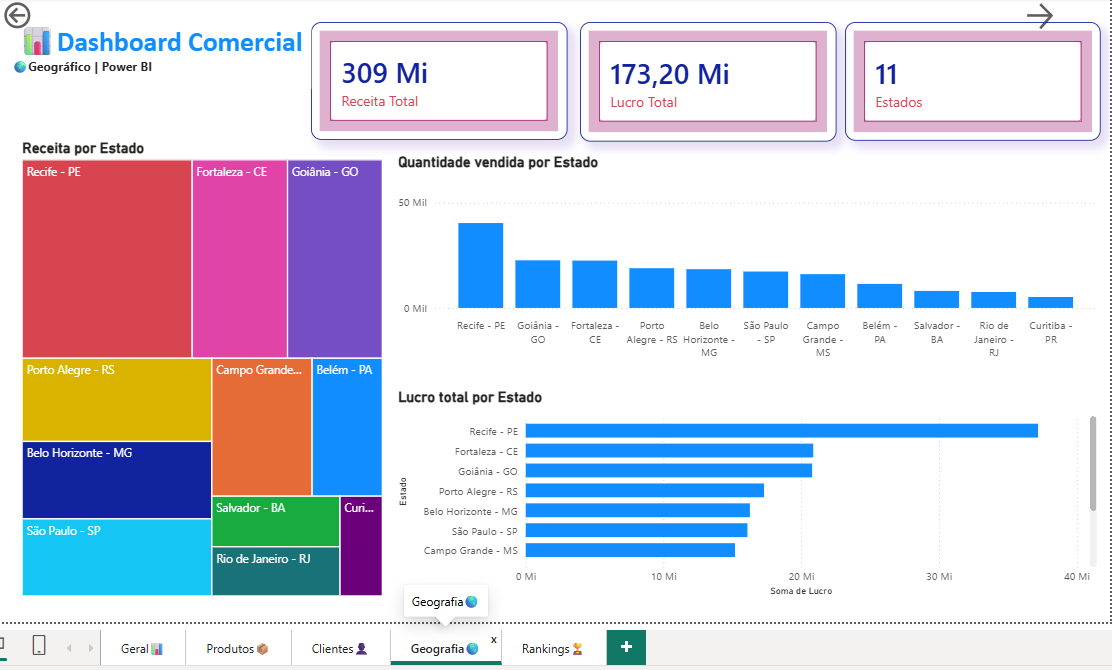

The dashboard page shown, as its layout file describes it:
{"tool":"powerbi","page":{"name":"Geografia🌎","canvas":[1280,720],"ordinal":3},"visuals":[{"type":"treemap","title":"Receita por Estado","fields":{"Details":["BaseVendas.Estado"],"Values":["BaseVendas.Receita Total"]},"box":[20.6,163.2,425.4,532],"z":0},{"type":"cardVisual","fields":{"Data":["BaseVendas.Receita Total"]},"box":[358.8,27.7,295.6,136.2],"z":2000},{"type":"textbox","box":[9,20.6,349.6,83.5],"z":4000},{"type":"barChart","title":"Lucro total por Estado","fields":{"Category":["mapa.Estado"],"Y":["Sum(mapa.Lucro)"]},"box":[454.6,450,815.8,244.6],"z":6000},{"type":"columnChart","title":"Quantidade vendida por Estado","fields":{"Category":["mapa.Estado"],"Y":["Sum(mapa.Qtd. Vendida)"]},"box":[454.6,178.8,815.8,245.8],"z":7000},{"type":"cardVisual","fields":{"Data":["BaseVendas.Lucro Total"]},"box":[669.2,27.7,295.6,137.5],"z":8000},{"type":"actionButton","box":[0,0,100,40],"z":9000},{"type":"actionButton","box":[1179.2,1.2,100,40],"z":9001},{"type":"cardVisual","fields":{"Data":["BaseVendas.Estados"]},"box":[975,27.7,295.4,137.3],"z":9002}]}

Visuals, with their boxes on the page's 1280x720 design canvas (x1, y1, x2, y2). These are canvas units, not pixel positions in the 1112x670 screenshot, which may show the page scaled, cropped or inside an application window:
"Receita por Estado" treemap: 21 163 446 695
cardVisual - BaseVendas.Receita Total: 359 28 654 164
textbox: 9 21 359 104
"Lucro total por Estado" barChart: 455 450 1270 695
"Quantidade vendida por Estado" columnChart: 455 179 1270 425
cardVisual - BaseVendas.Lucro Total: 669 28 965 165
actionButton: 0 0 100 40
actionButton: 1179 1 1279 41
cardVisual - BaseVendas.Estados: 975 28 1270 165
